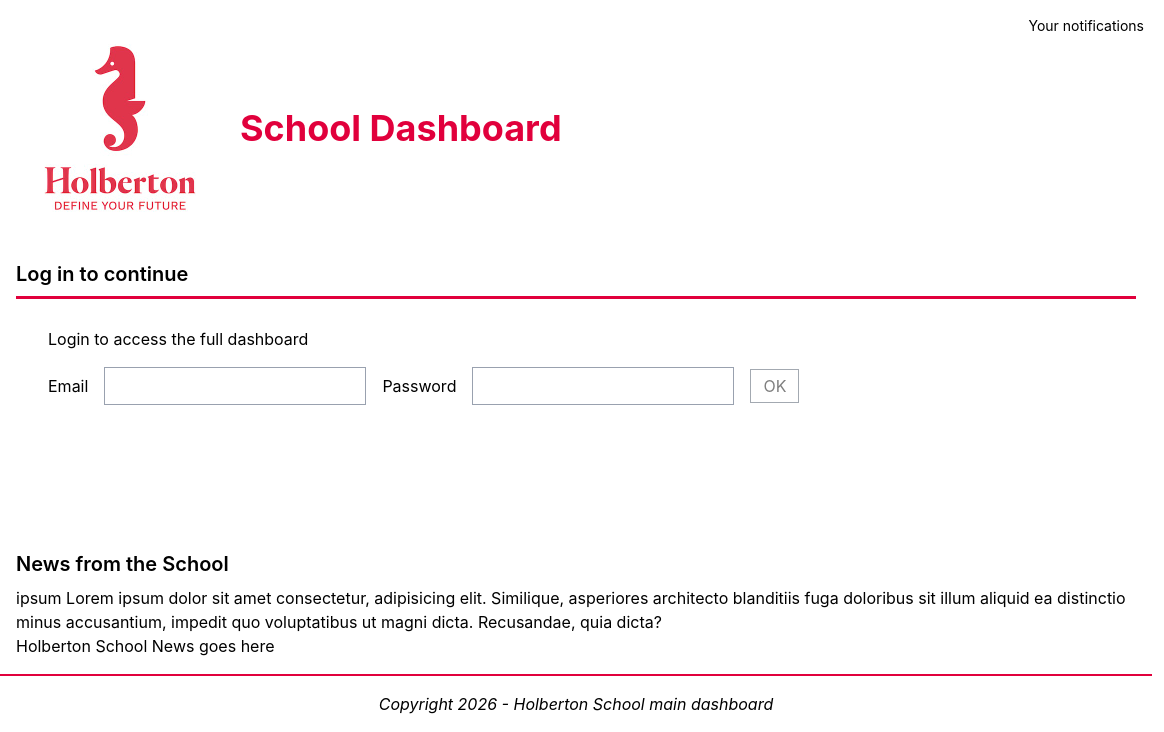
Test case: App login and logout state › clicking a notification removes it and logs the expected message
The image size is (1164, 732).
Click the text "Your notifications". click: (1090, 24)
box: x1=1028 y1=12 x2=1152 y2=36
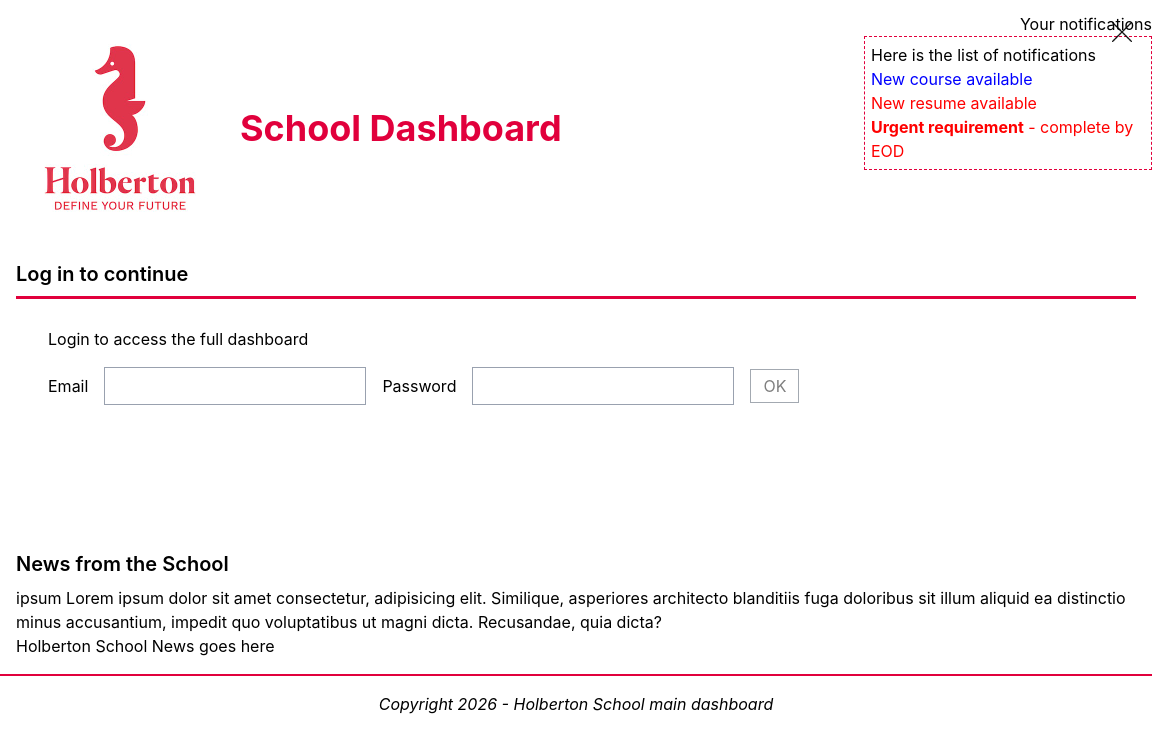
Now the list item "New course available" is shown
Click the list item "New course available". click: (952, 79)
box: x1=871 y1=69 x2=1033 y2=89
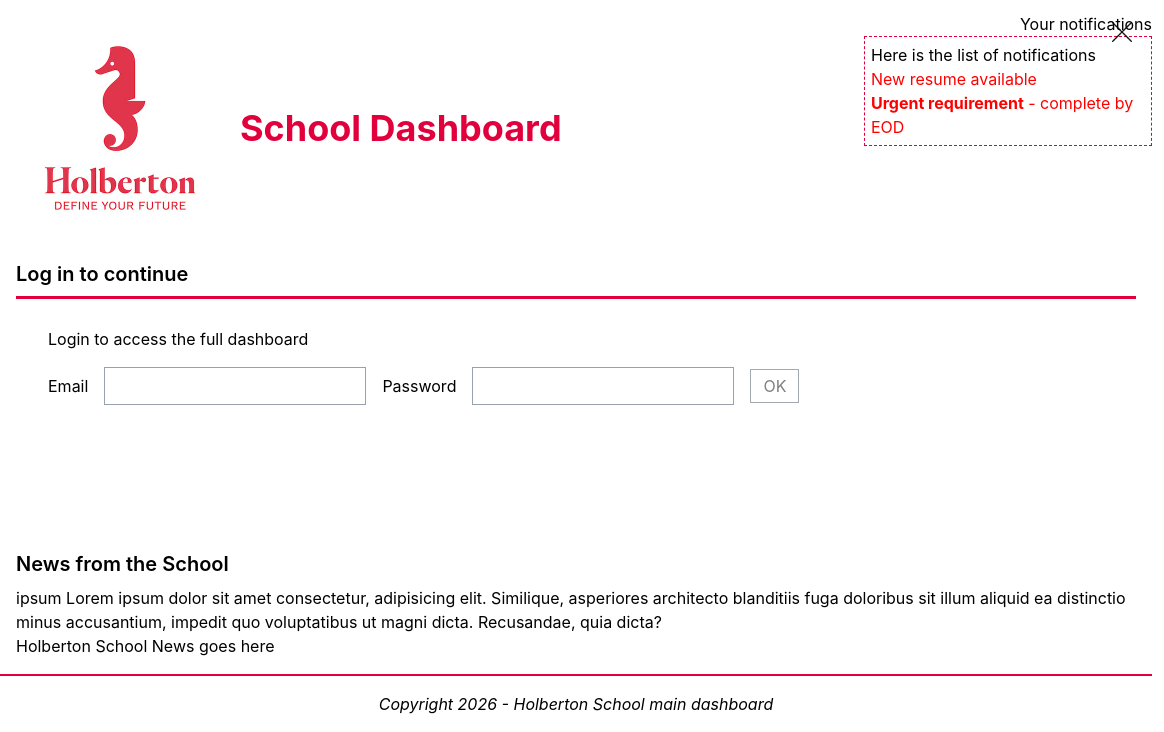
Now the list item "New course available" is gone
